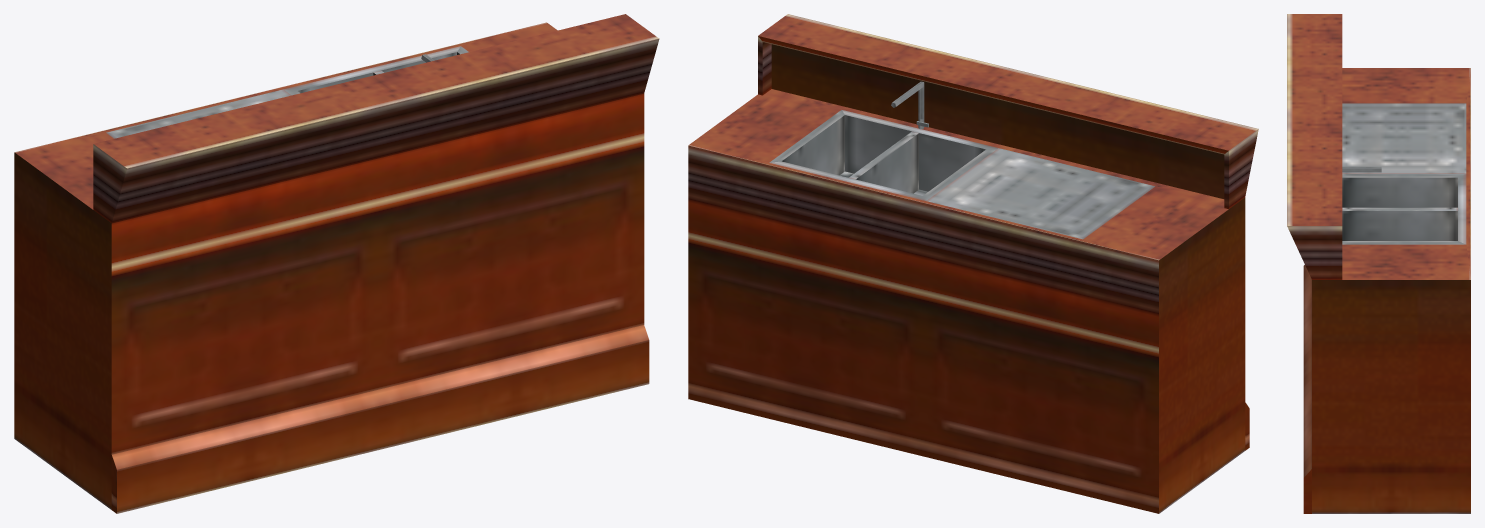
File: BarSink01.obj
The picture shows the model from 3 angles, left to right: view 1: azimuth 30°, elevation 25°; view 2: azimuth 150°, elevation 25°; view 3: azimuth 270°, elevation 25°; orthographic projection. The views are drawn at different scales.
Visible parts, largest first — view 1: BarSink01; view 2: BarSink01; view 3: BarSink01, BarSink01.Arm.
Part boxes in pixels (bbox=[...]): BarSink01: bbox=[14, 14, 659, 513]; BarSink01: bbox=[688, 14, 1258, 513]; BarSink01: bbox=[1287, 14, 1470, 513]; BarSink01.Arm: bbox=[1342, 166, 1381, 172].
Size of the model in its own units: 3 by 1.9 by 1.1.
